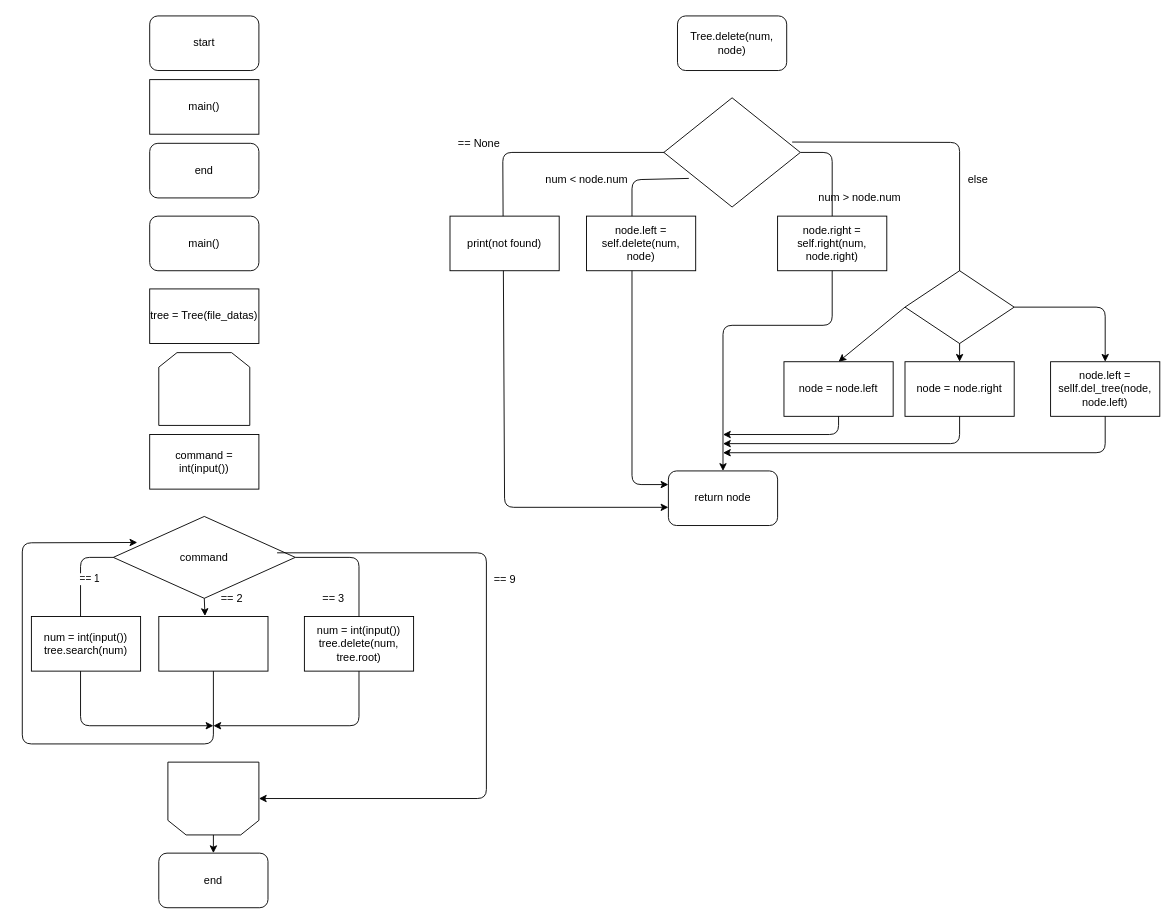
This 1176x924 diagram has some shape labels left out. The box of each missing label's shape, as (x1, y1, x2, y2) in pixels:
endwhile: (167, 761, 259, 835)
node: (663, 97, 800, 207)
tree.show(tree.root, 0): (158, 616, 268, 671)
while True: (158, 352, 250, 425)
